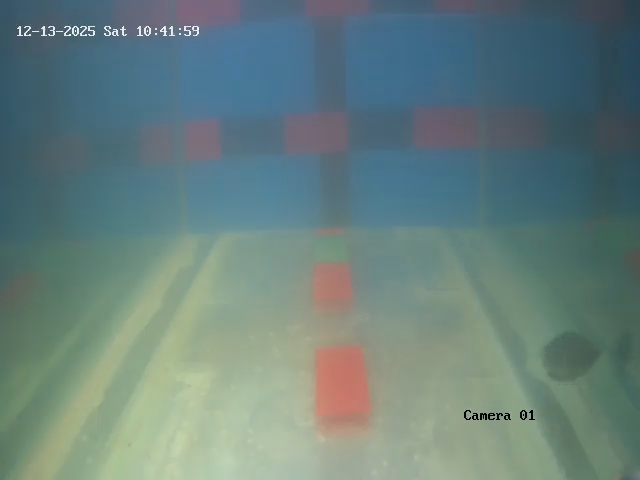fish: (544, 328, 600, 389)
